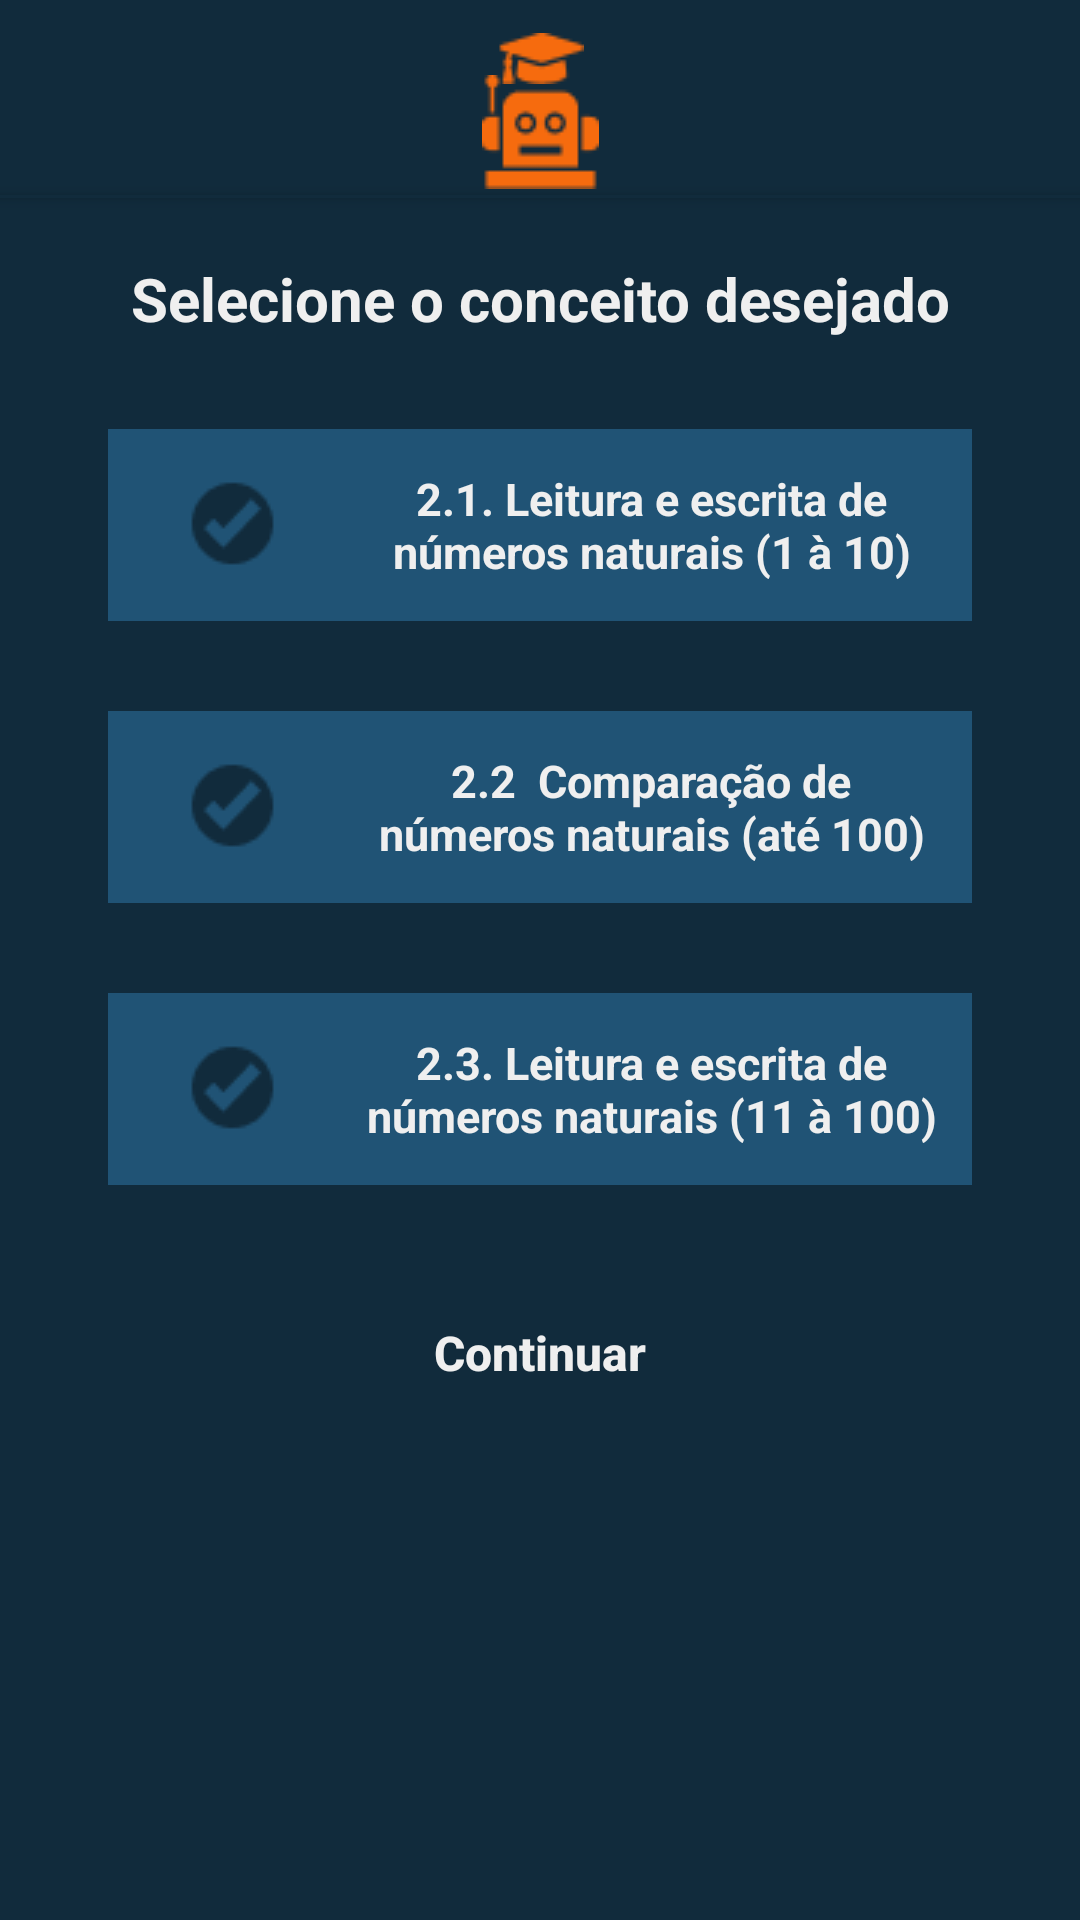

Icon bounding boxes for this 1080x1920 phone screenshot, format box=[x1, y1, x2, y2]:
cap: box=[499, 33, 584, 84]
minirobot: box=[482, 75, 599, 189]
